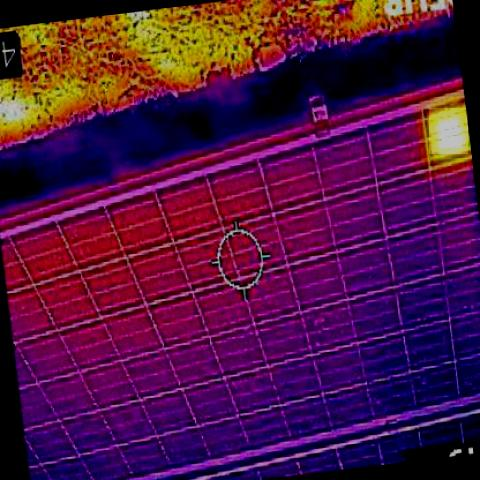fault: (429, 108, 468, 154)
